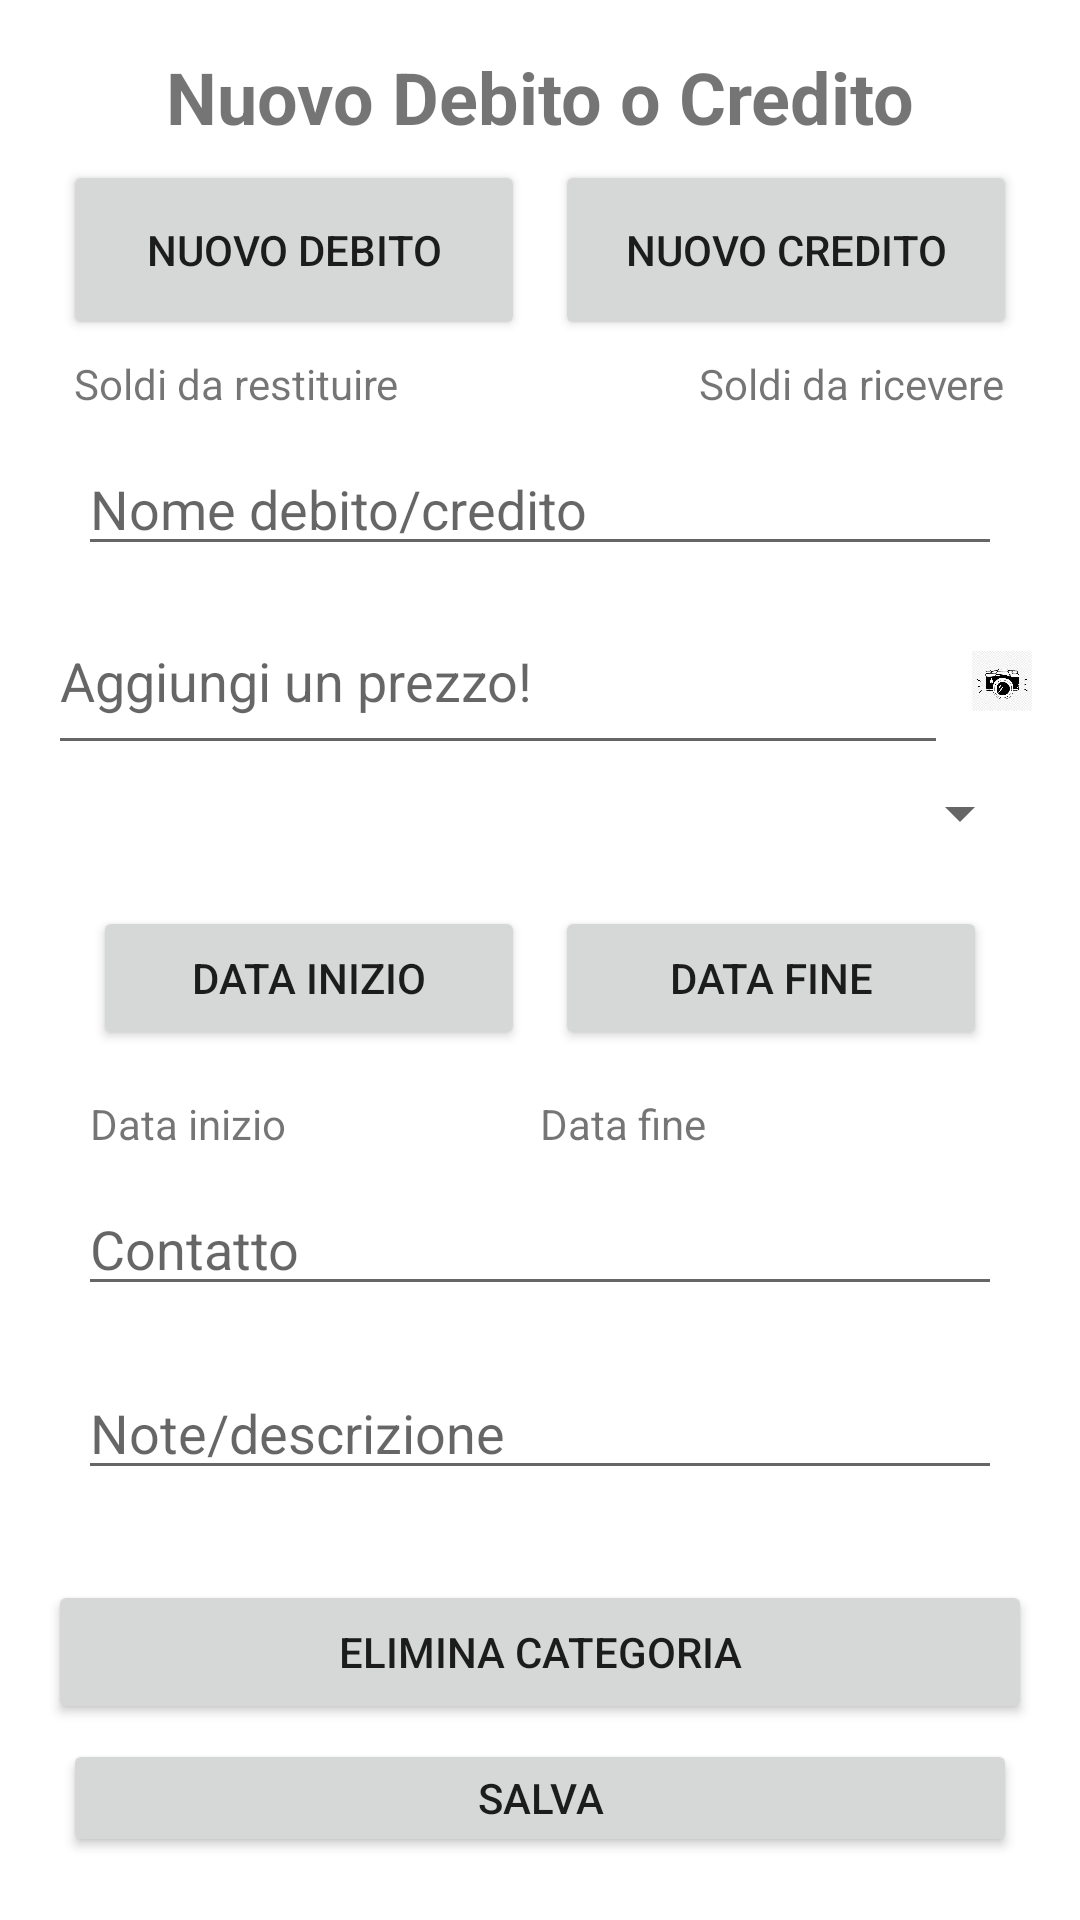

Point at icon controls on the screen. Image size 1080 x 1920, points as (x=x, y=y).
Icona della fotocamera: (x=1002, y=679)
